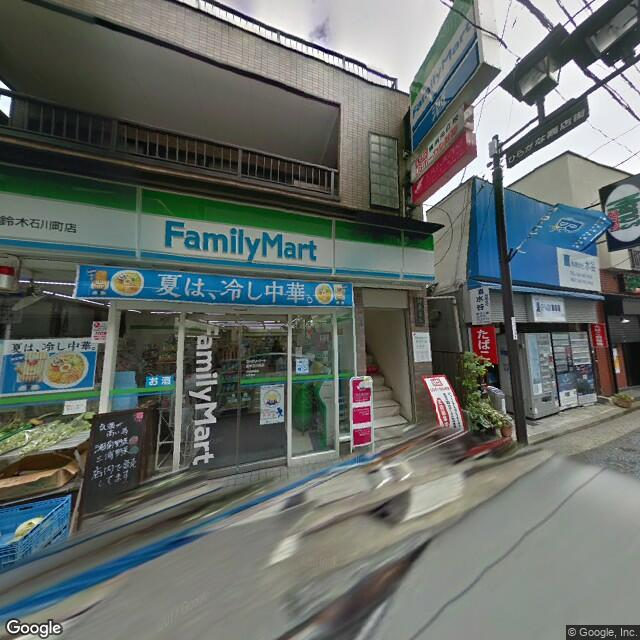family_mart: (1, 164, 437, 285), (409, 1, 478, 158), (158, 212, 325, 271), (187, 320, 222, 467)
